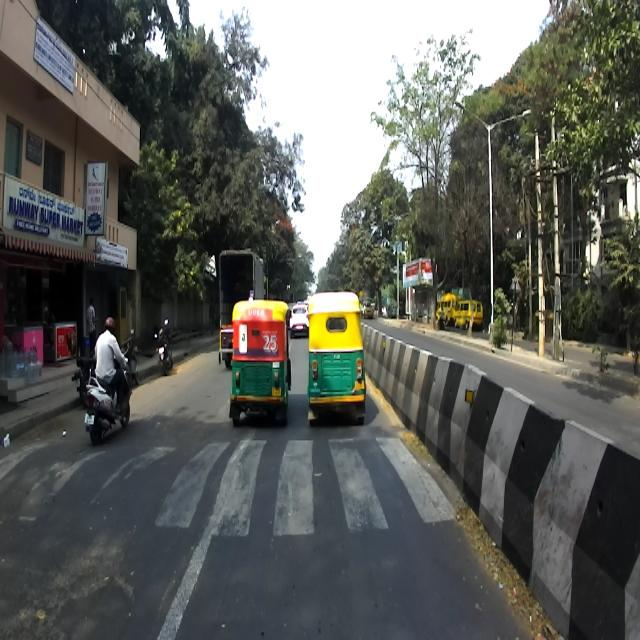auto ahead at: (227, 300, 291, 418), (310, 294, 366, 419)
motorcycle ahead at: (80, 367, 134, 440)
